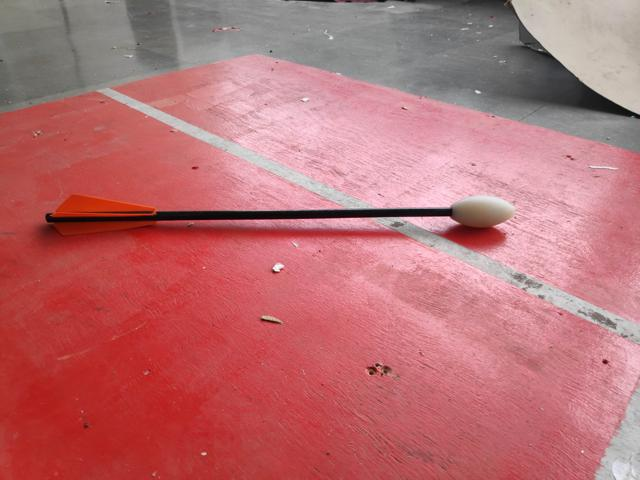Head: (446, 194, 517, 229)
